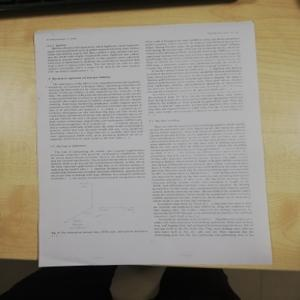text: (149, 122, 255, 239), (146, 38, 243, 115), (46, 74, 146, 141), (49, 149, 145, 180), (45, 43, 140, 73)
